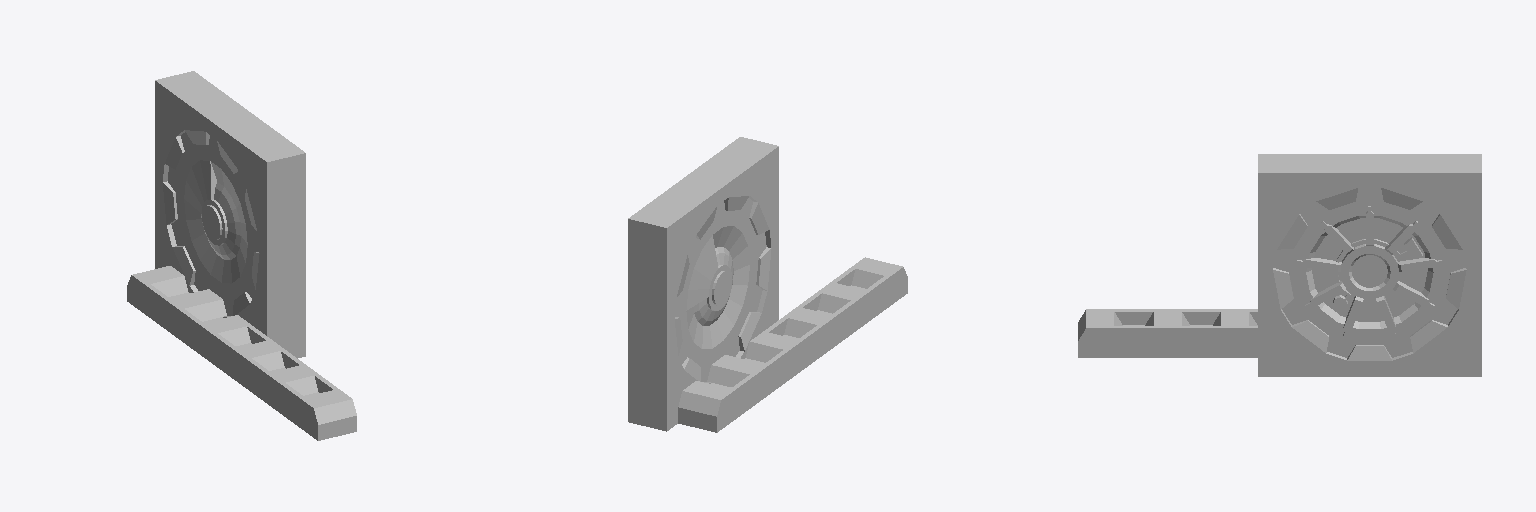
The model's file is vault_door.obj.
3 views of the same model, side by side, from view 1: azimuth 30°, elevation 25°; view 2: azimuth 150°, elevation 25°; view 3: azimuth 270°, elevation 25° (orthographic).
Visible parts, largest first — view 1: Frame, Door; view 2: Frame, Door; view 3: Frame, Door, Label.
Part boxes in pixels (left/top/right/bottom): Frame: left=127, top=71, right=356, bottom=440; Door: left=168, top=132, right=258, bottom=315; Frame: left=628, top=137, right=907, bottom=432; Door: left=675, top=198, right=766, bottom=381; Frame: left=1078, top=154, right=1481, bottom=376; Door: left=1273, top=188, right=1465, bottom=357; Label: left=1352, top=255, right=1387, bottom=287.
Bounding box in the file's own units: 2 × 5 × 9.